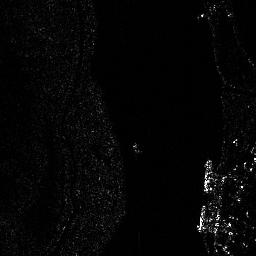ship: (202, 159, 213, 192), (198, 204, 207, 233)
